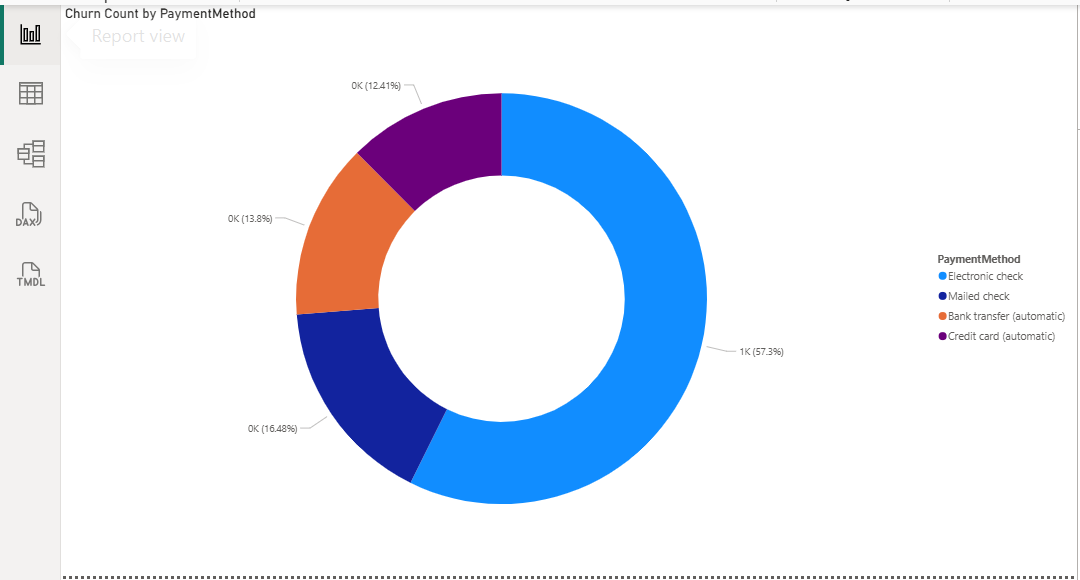

What the dashboard file says about the page in this screenshot:
{"tool":"powerbi","page":{"name":"Page 3","canvas":[1280,720],"ordinal":2},"visuals":[{"type":"donutChart","fields":{"Category":["churn_dashboard_data.PaymentMethod"],"Y":["churn_dashboard_data.Churn Count"]},"box":[0,0,1279.4,720],"z":0}]}

Visuals, with their boxes on the page's 1280x720 design canvas (x1, y1, x2, y2). These are canvas units, not pixel positions in the 1080x580 screenshot, which may show the page scaled, cropped or inside an application window:
donutChart - churn_dashboard_data.PaymentMethod x churn_dashboard_data.Churn Count: 0:0:1279:720
